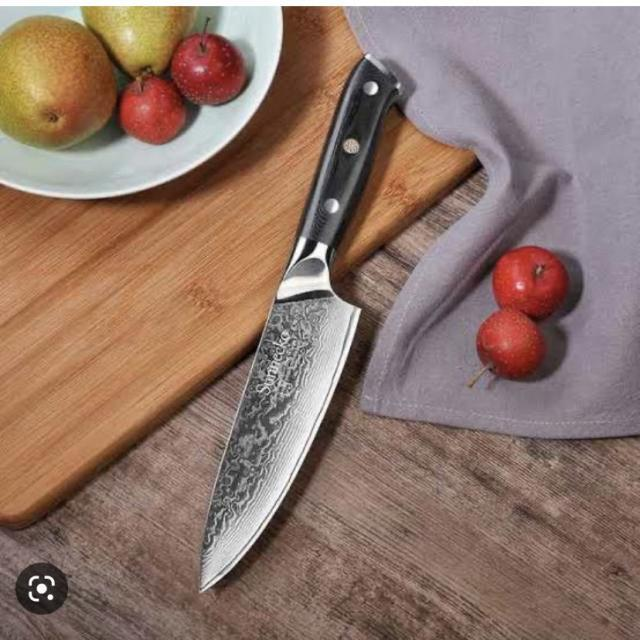Knife: (176, 43, 437, 601)
